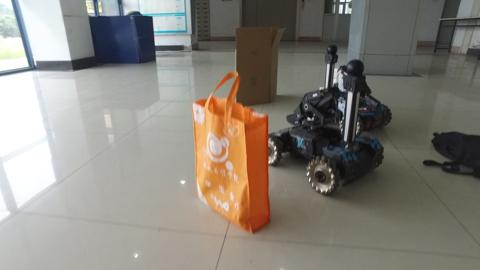bag: (189, 72, 275, 232)
box: (236, 25, 281, 103)
chariot: (264, 60, 388, 192)
